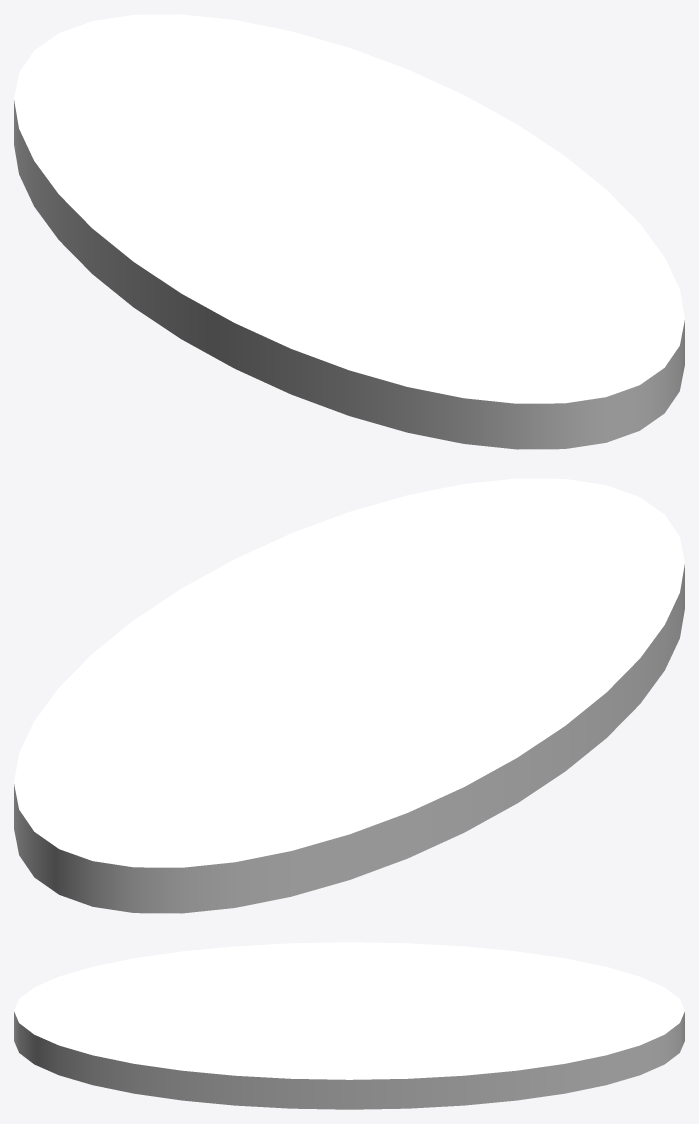
File: Stage.fbx
The picture shows the model from 3 angles, top to bottom: view 1: azimuth 30°, elevation 25°; view 2: azimuth 150°, elevation 25°; view 3: azimuth 270°, elevation 25°; orthographic projection. The views are drawn at different scales.
Parts seen in each view (by area): view 1: Bühne; view 2: Bühne; view 3: Bühne.
Boxes of the visible parts, box(x1,y1,x2,y2) form: Bühne: box(14, 14, 684, 449); Bühne: box(14, 478, 684, 913); Bühne: box(14, 942, 684, 1109).
Size of the model in its own units: 197 by 19.96 by 407.
